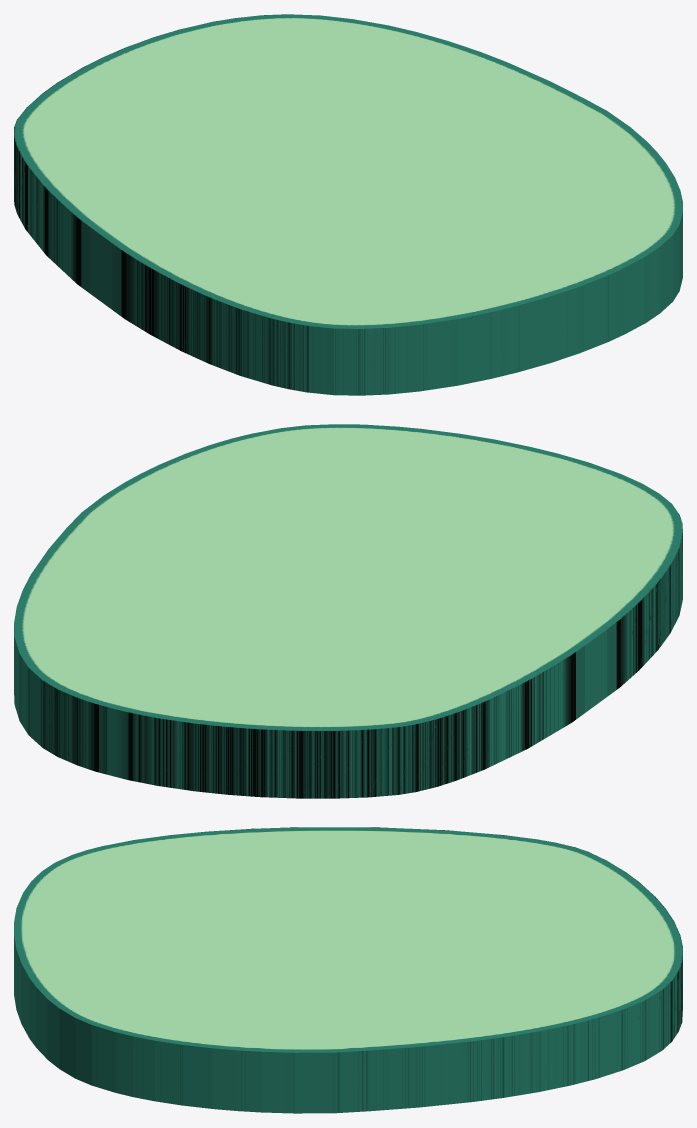
Rendered from cell_wall.gltf.
The picture shows the model from 3 angles, top to bottom: view 1: azimuth 30°, elevation 25°; view 2: azimuth 150°, elevation 25°; view 3: azimuth 270°, elevation 25°; orthographic projection. The views are drawn at different scales.
Bounding box in the file's own units: 0.1638 × 0.0206 × 0.2055.
Materials: 1 (1 with a texture image).
